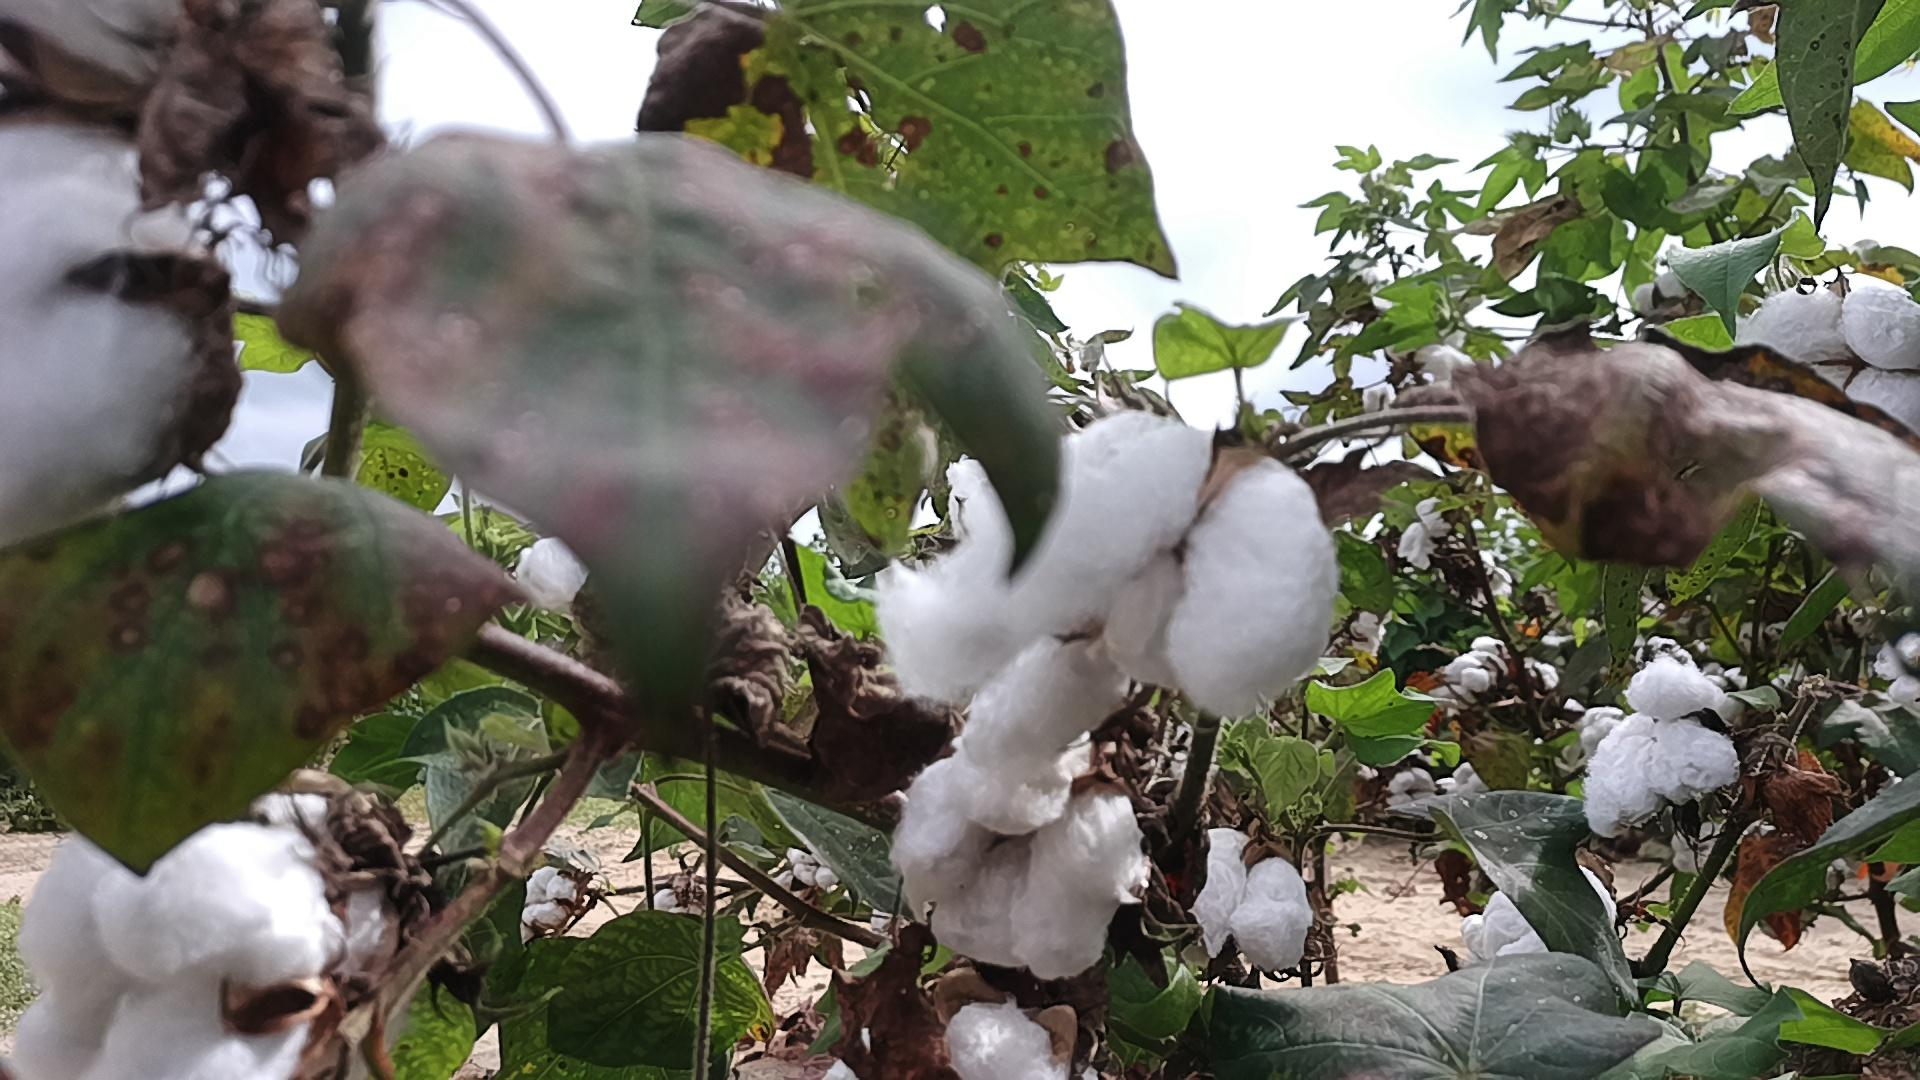cotton_ready: (880, 406, 1338, 773), (0, 121, 223, 549), (8, 823, 326, 1080), (898, 736, 1141, 975), (1738, 281, 1920, 443), (1588, 658, 1741, 835), (249, 790, 396, 975), (1192, 825, 1316, 967), (1464, 861, 1621, 971), (948, 1007, 1118, 1080), (721, 1018, 853, 1080), (513, 539, 592, 608)
